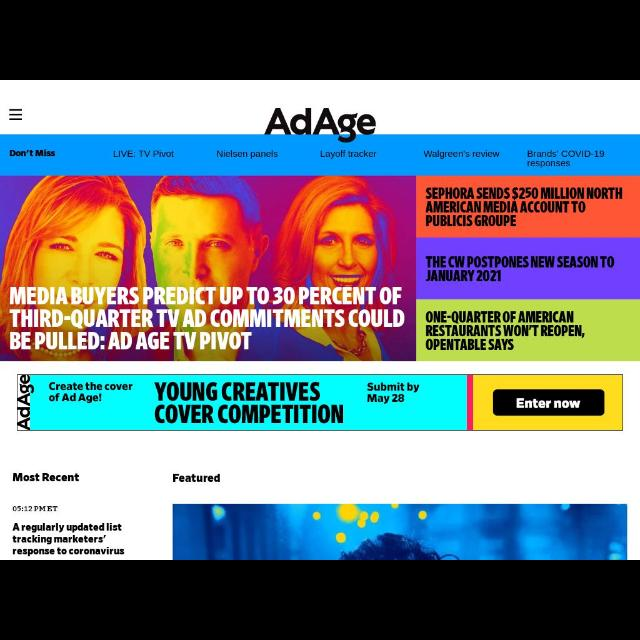backgroundimage: (1, 175, 417, 361), (17, 375, 623, 431)
icon: (10, 108, 22, 120)
image: (174, 504, 626, 558), (264, 108, 376, 142)
multitab: (1, 135, 639, 175)
text: (11, 286, 406, 350), (154, 382, 343, 423), (426, 188, 622, 226), (426, 312, 584, 350), (426, 256, 614, 282), (12, 524, 124, 556), (49, 383, 133, 403), (528, 150, 604, 168), (367, 382, 419, 403), (424, 150, 500, 160), (516, 398, 580, 408), (13, 474, 79, 482), (114, 150, 174, 158), (217, 150, 277, 158), (321, 151, 377, 159), (173, 474, 219, 482), (12, 506, 58, 512), (10, 150, 54, 156)
textbutton: (494, 390, 604, 416)
